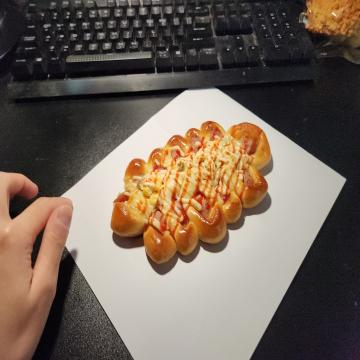pizza_bread: (109, 121, 271, 263)
